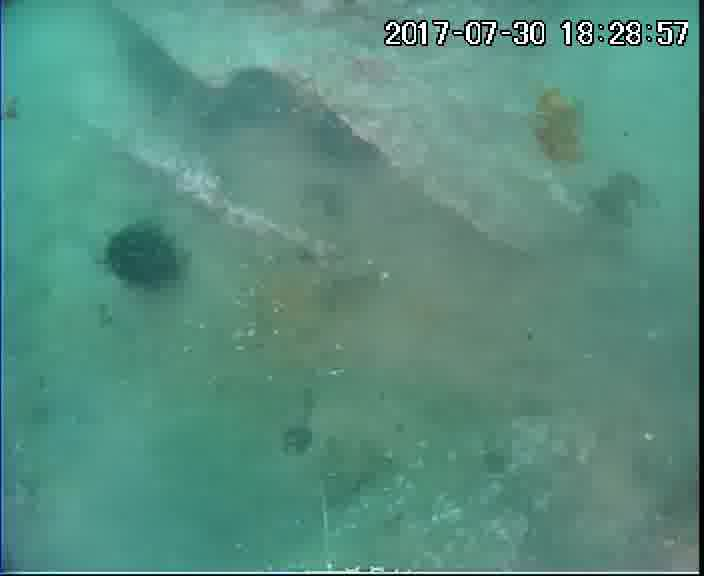echinus: (103, 216, 179, 292), (229, 66, 304, 130), (316, 108, 380, 167)
